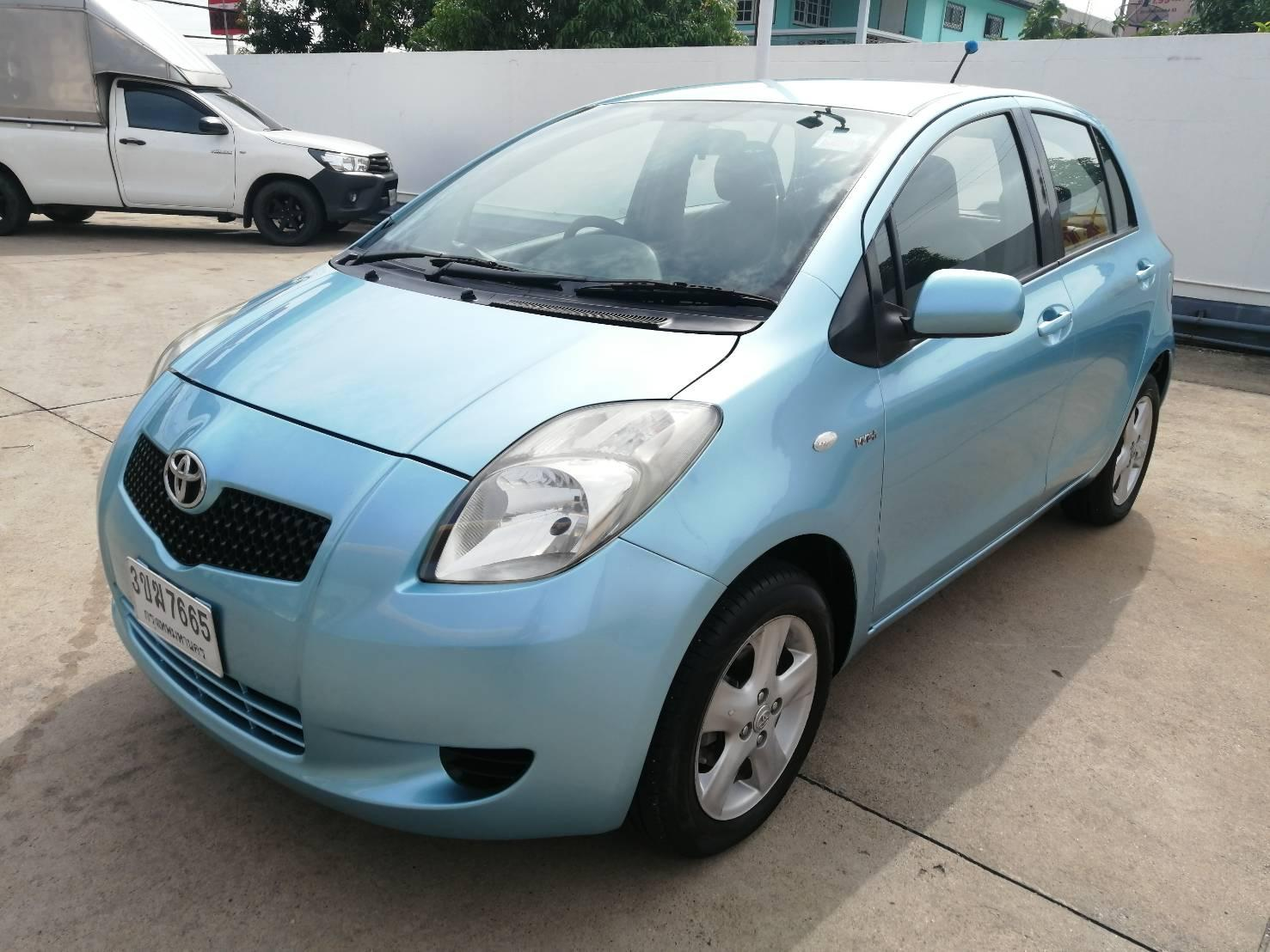license-plate: (127, 550, 226, 679)
